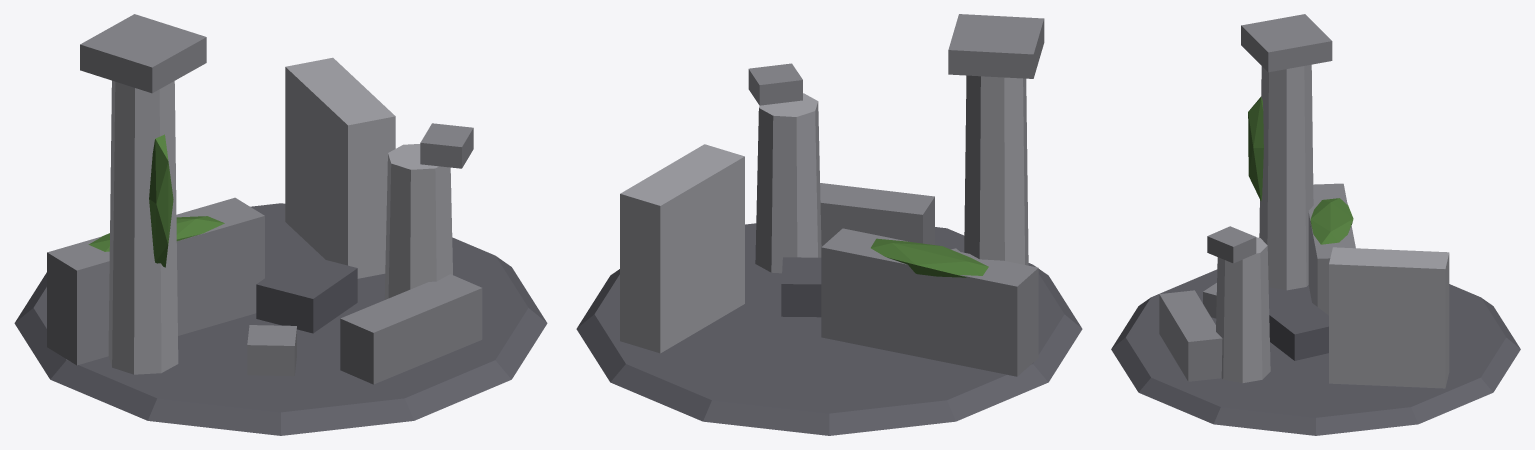
Rendered from ruin.obj.
3 renders of one model, left to right at view 1: azimuth 30°, elevation 25°; view 2: azimuth 150°, elevation 25°; view 3: azimuth 270°, elevation 25°, orthographic. The views are drawn at different scales.
Parts seen in each view (by area): view 1: ruin; view 2: ruin; view 3: ruin.
Part boxes in pixels (x1,y1,x2,y2): ruin: (14,14,547,435); ruin: (576,14,1082,435); ruin: (1111,14,1520,435).
Bounding box in the file's own units: 5.6 × 3.88 × 5.6.
